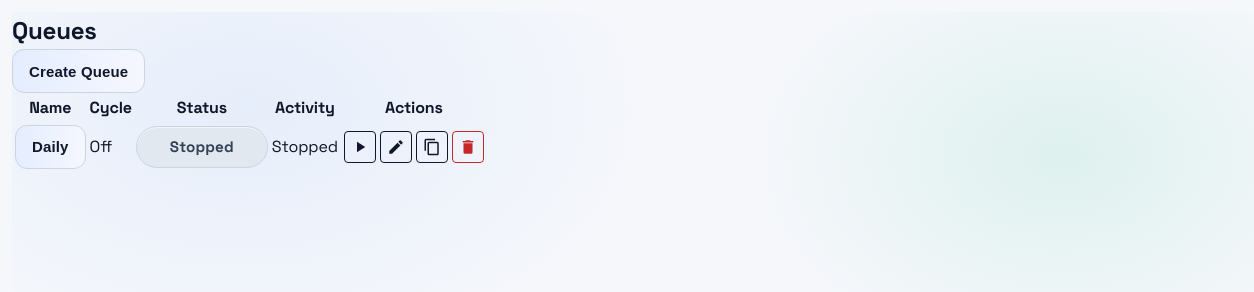
Test case: QueuesPage start/stop › surfaces a device_in_use start refusal naming the emulator and the holding queue
Expected: the button "Daily" is shown, [15,125,86,169]
Click the button named "Start Daily" at (360, 147), box [344,131,376,163]
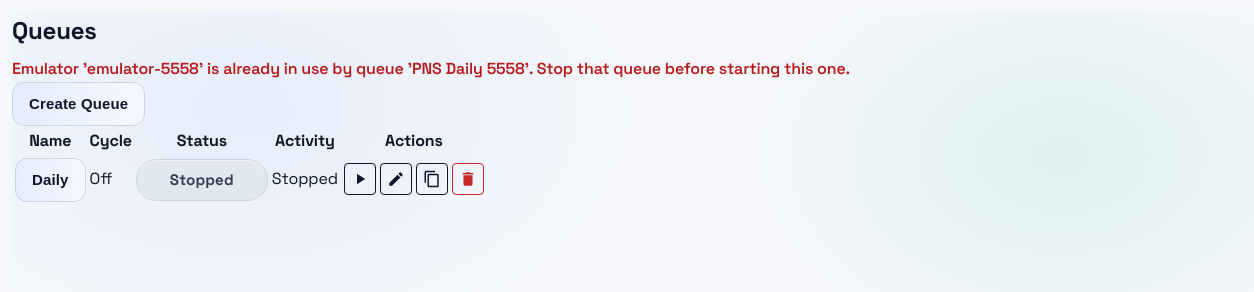
Now the message shows "emulator-5558", box [12,58,850,79]
Now the message shows "PNS Daily 5558", box [12,58,850,79]
